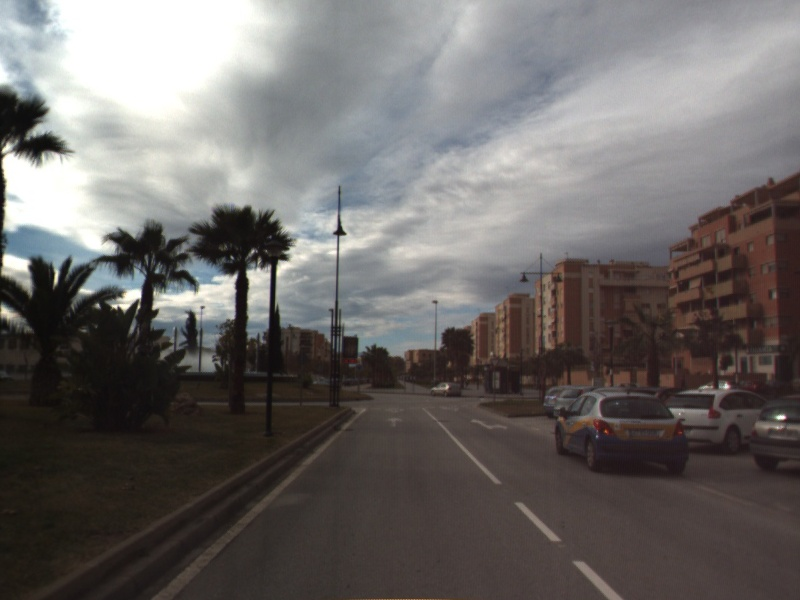STRAIGHT: (384, 415, 405, 429)
STRAIGHT_RIGHT: (469, 417, 509, 432)
